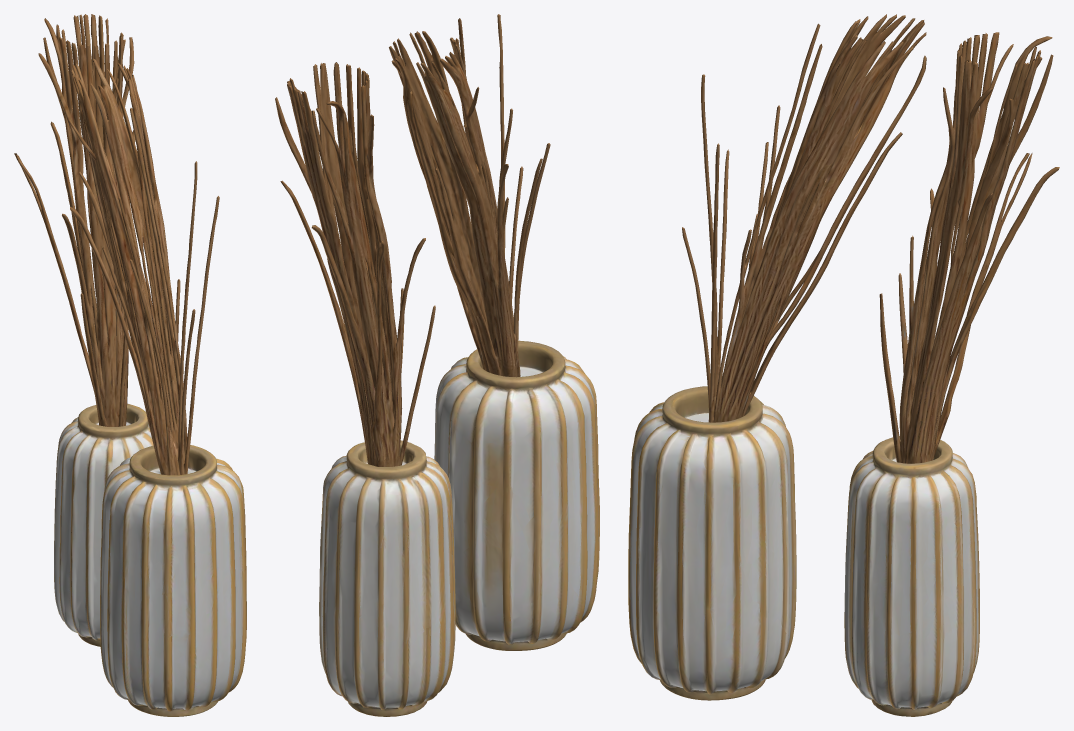
Rendered from decor-vases-gold-striped.glb.
3 views of the same model, side by side, from view 1: azimuth 30°, elevation 25°; view 2: azimuth 150°, elevation 25°; view 3: azimuth 270°, elevation 25° (orthographic). The views are drawn at different scales.
Parts seen in each view (by area): view 1: tripo_node_b48613a9-36c7-4095-92c2-0b5fba4ad358; view 2: tripo_node_b48613a9-36c7-4095-92c2-0b5fba4ad358; view 3: tripo_node_b48613a9-36c7-4095-92c2-0b5fba4ad358.
Part boxes in pixels (left/top/right/bottom): tripo_node_b48613a9-36c7-4095-92c2-0b5fba4ad358: left=14, top=14, right=246, bottom=716; tripo_node_b48613a9-36c7-4095-92c2-0b5fba4ad358: left=275, top=14, right=599, bottom=716; tripo_node_b48613a9-36c7-4095-92c2-0b5fba4ad358: left=628, top=14, right=1059, bottom=716.
Size of the model in its own units: 0.1028 by 0.38 by 0.2236.
Materials: 1 (1 with a texture image).
